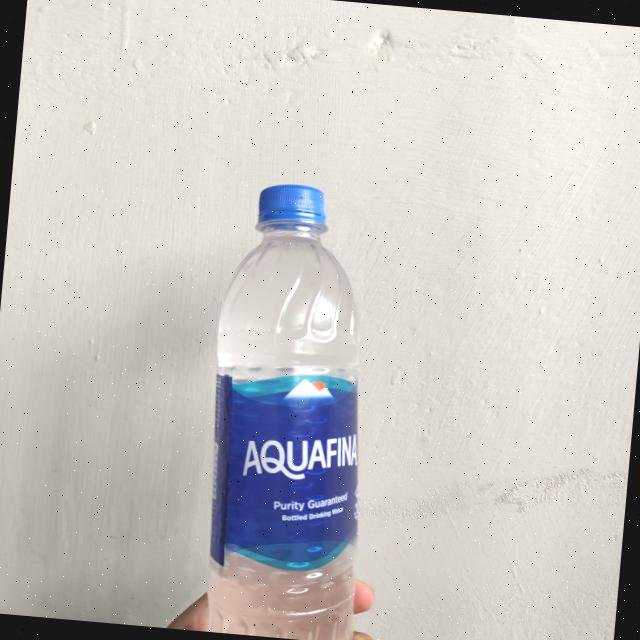bottle: (187, 162, 392, 640)
cap: (254, 178, 334, 237)
label: (191, 362, 374, 578)
